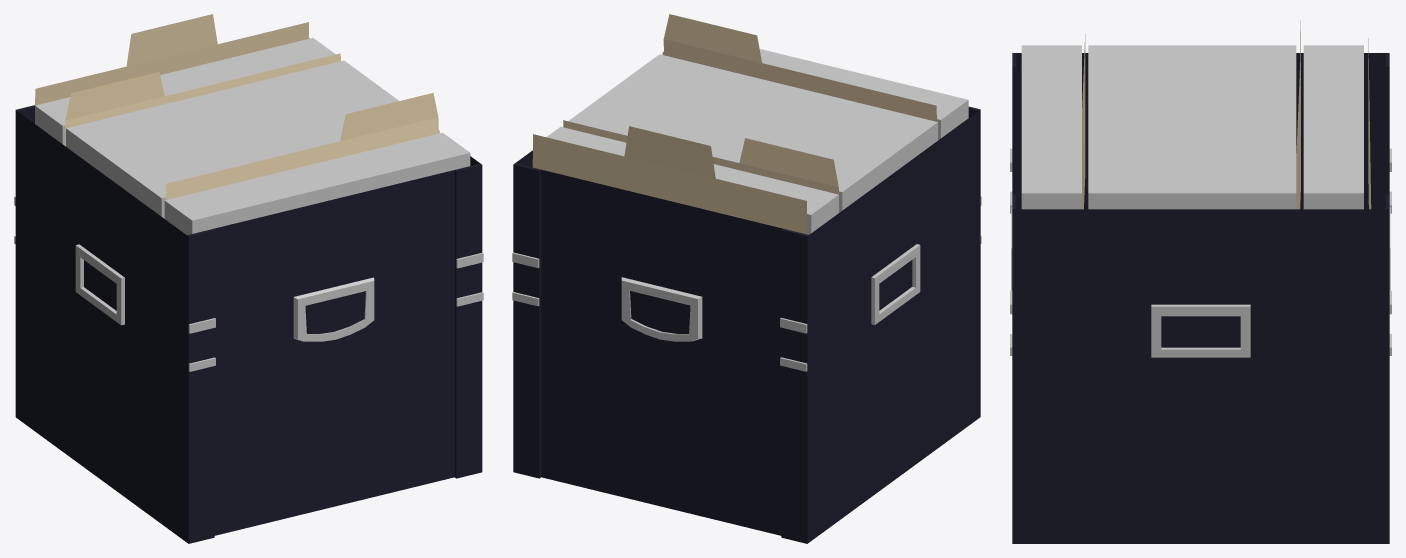
The model's file is FileBox2.fbx.
3 renders of one model, left to right at view 1: azimuth 30°, elevation 25°; view 2: azimuth 150°, elevation 25°; view 3: azimuth 270°, elevation 25°, orthographic. The views are drawn at different scales.
Parts seen in each view (by area): view 1: FileBox2; view 2: FileBox2; view 3: FileBox2.
Part boxes in pixels (box(x1,y1,x2,y2)): FileBox2: box(14, 14, 483, 543); FileBox2: box(512, 14, 981, 543); FileBox2: box(1010, 20, 1391, 543).
Size of the model in its own units: 205 by 237 by 207.
